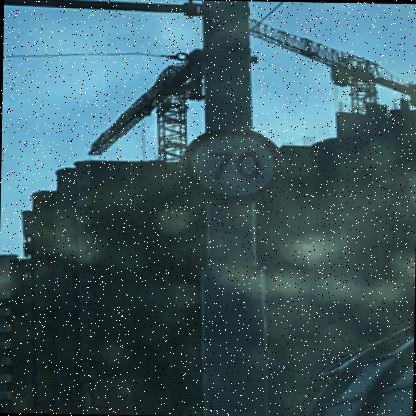speedlimit: (180, 126, 282, 202)
